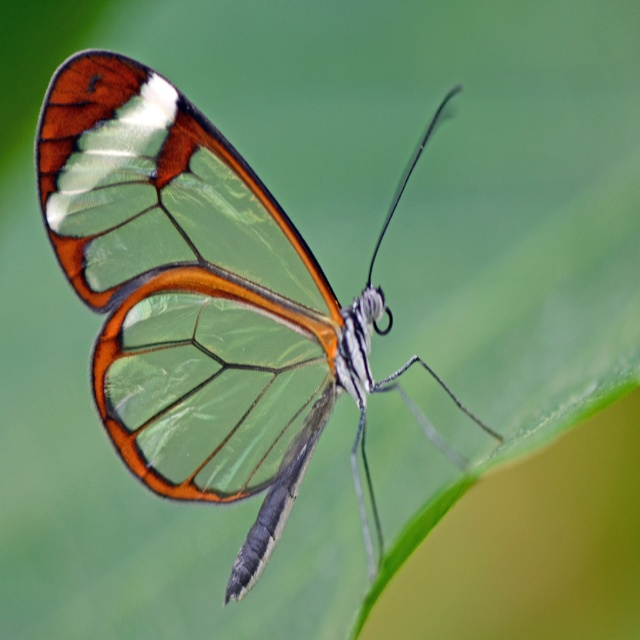Butterfly: (41, 10, 508, 625)
